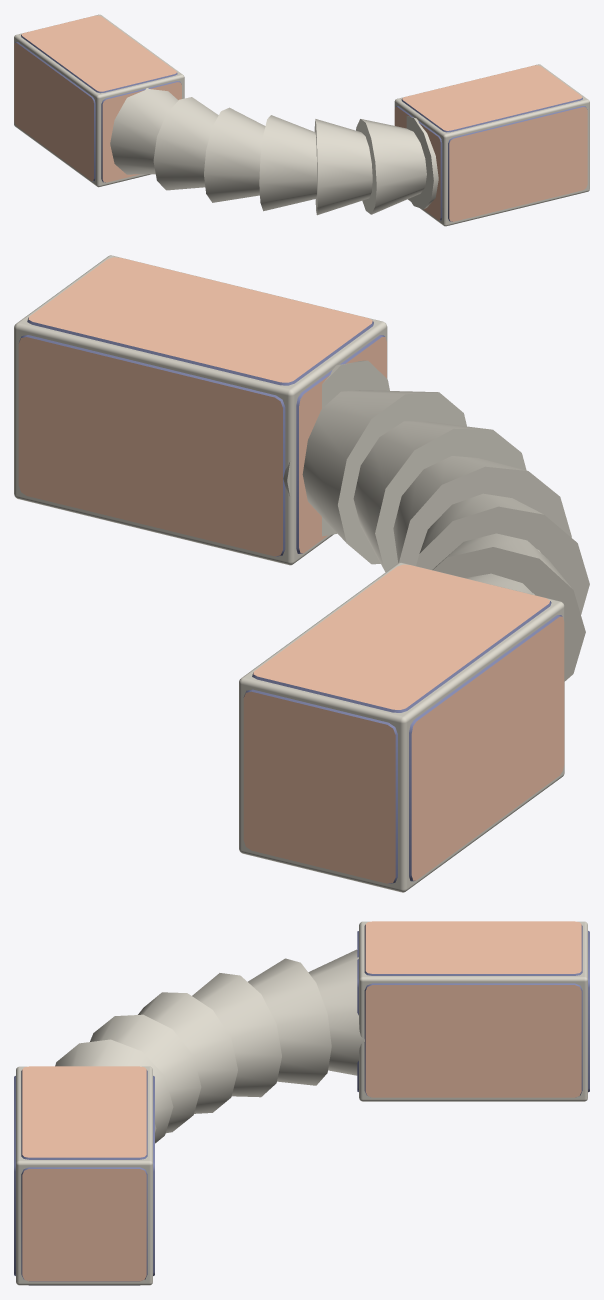
Rendered from R4C_ROD_ARC_SHORT.fbx.
The picture shows the model from 3 angles, top to bottom: view 1: azimuth 30°, elevation 25°; view 2: azimuth 150°, elevation 25°; view 3: azimuth 270°, elevation 25°; orthographic projection. The views are drawn at different scales.
Visible parts, largest first — view 1: R4C_ROD_ARC_SHORT; view 2: R4C_ROD_ARC_SHORT; view 3: R4C_ROD_ARC_SHORT.
Part boxes in pixels (<box>): R4C_ROD_ARC_SHORT: <box>14,14,589,226</box>; R4C_ROD_ARC_SHORT: <box>14,255,589,892</box>; R4C_ROD_ARC_SHORT: <box>14,921,589,1285</box>.
Bounding box in the file's own units: 0.923 × 0.226 × 0.923.
